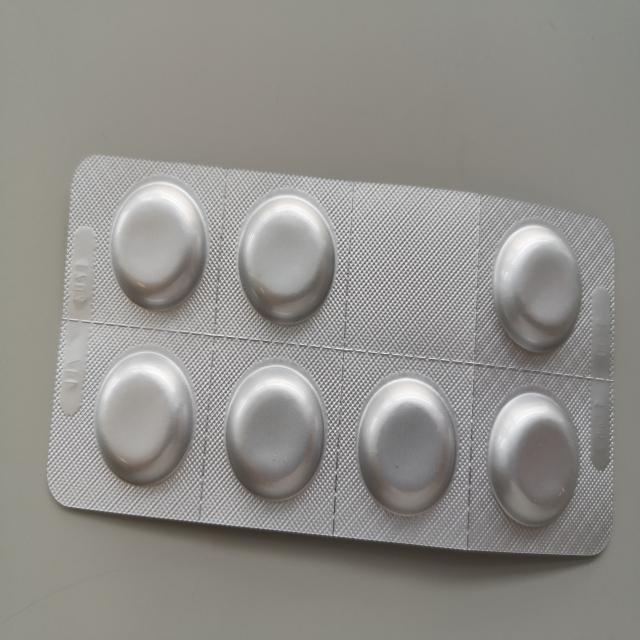Pill: (220, 357, 333, 505), (352, 372, 461, 523), (482, 384, 587, 533), (92, 345, 198, 490), (233, 188, 340, 330), (108, 173, 210, 315), (488, 218, 586, 358)
